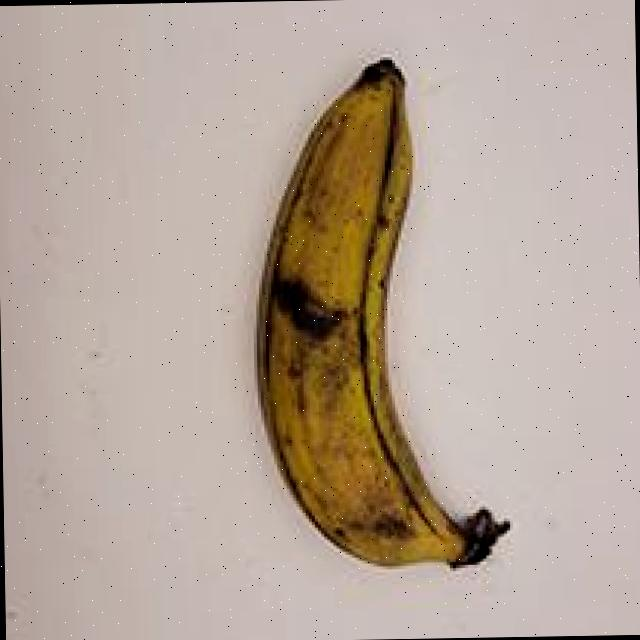Overripe: (202, 39, 548, 592)
